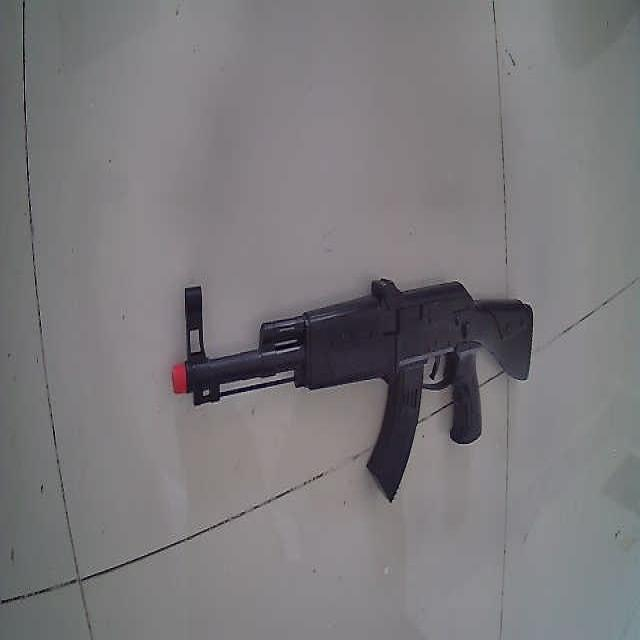rifle: (172, 278, 532, 502)
